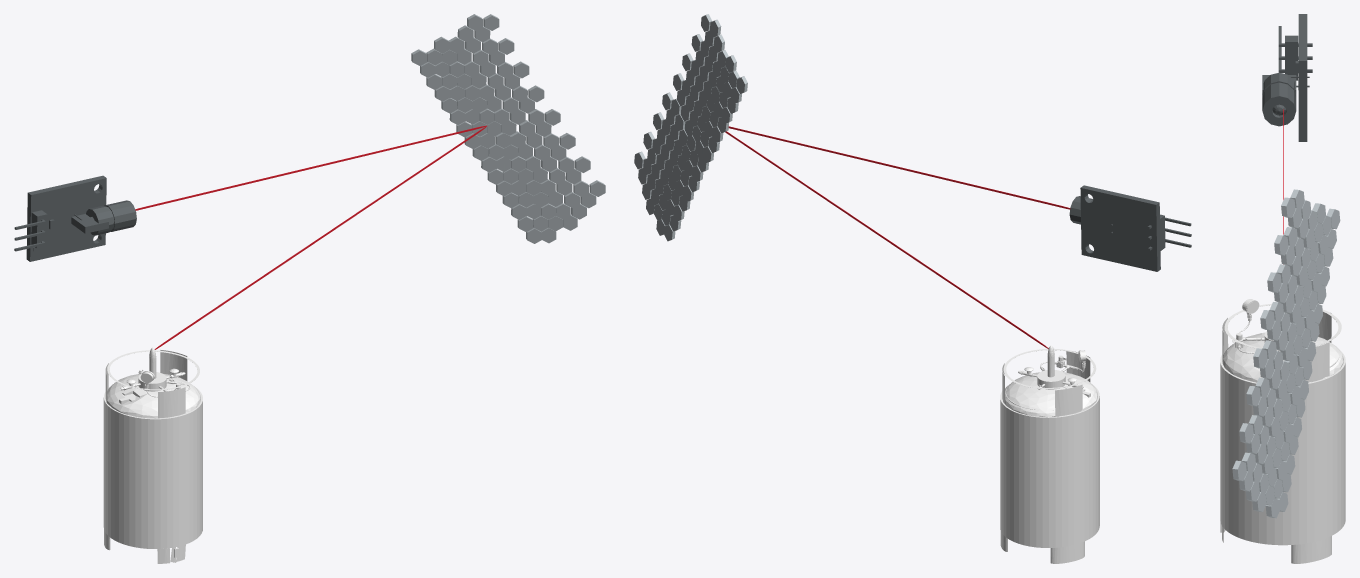
Rendered from tinker.obj.
The picture shows the model from 3 angles, left to right: view 1: azimuth 30°, elevation 25°; view 2: azimuth 150°, elevation 25°; view 3: azimuth 270°, elevation 25°; orthographic projection. The views are drawn at different scales.
Visible parts, largest first — view 1: group_0_12568524, group_0_16777215, group_0_6383466, group_0_15277357; view 2: group_0_16777215, group_0_12568524, group_0_6383466, group_0_15277357; view 3: group_0_16777215, group_0_12568524, group_0_6383466.
Boxes of the visible parts, x1,y1,x2,y2 form: group_0_12568524: [411, 14, 605, 243]; group_0_16777215: [103, 347, 202, 563]; group_0_6383466: [14, 175, 136, 261]; group_0_15277357: [135, 125, 486, 349]; group_0_16777215: [1000, 345, 1099, 563]; group_0_12568524: [634, 14, 747, 241]; group_0_6383466: [1069, 185, 1191, 271]; group_0_15277357: [725, 126, 1070, 348]; group_0_16777215: [1220, 299, 1345, 563]; group_0_12568524: [1232, 189, 1340, 518]; group_0_6383466: [1262, 14, 1312, 141].
Bounding box in the file's own units: 144 × 107 × 22.3.
